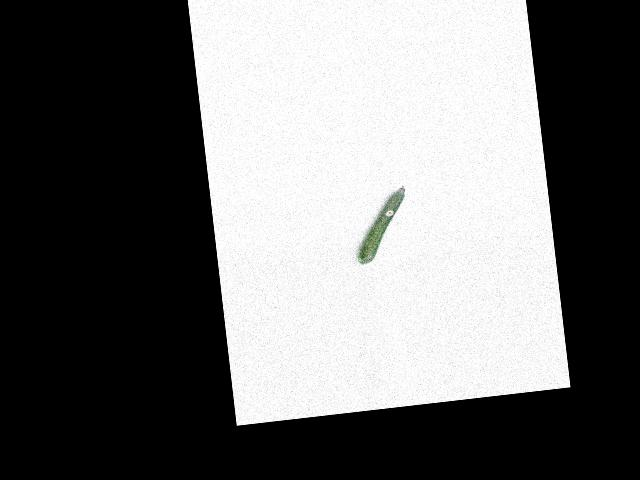cucumber: (350, 185, 412, 264)
